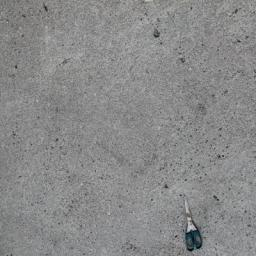FOD: (181, 192, 206, 254)
